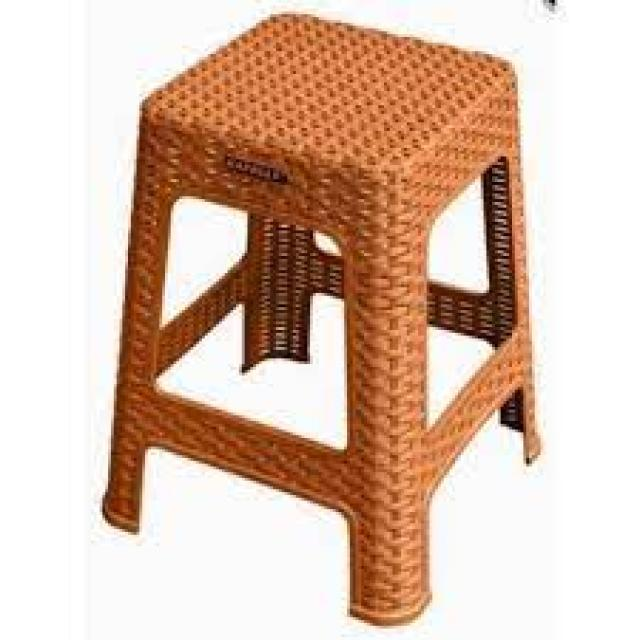chair: (85, 0, 572, 640)
